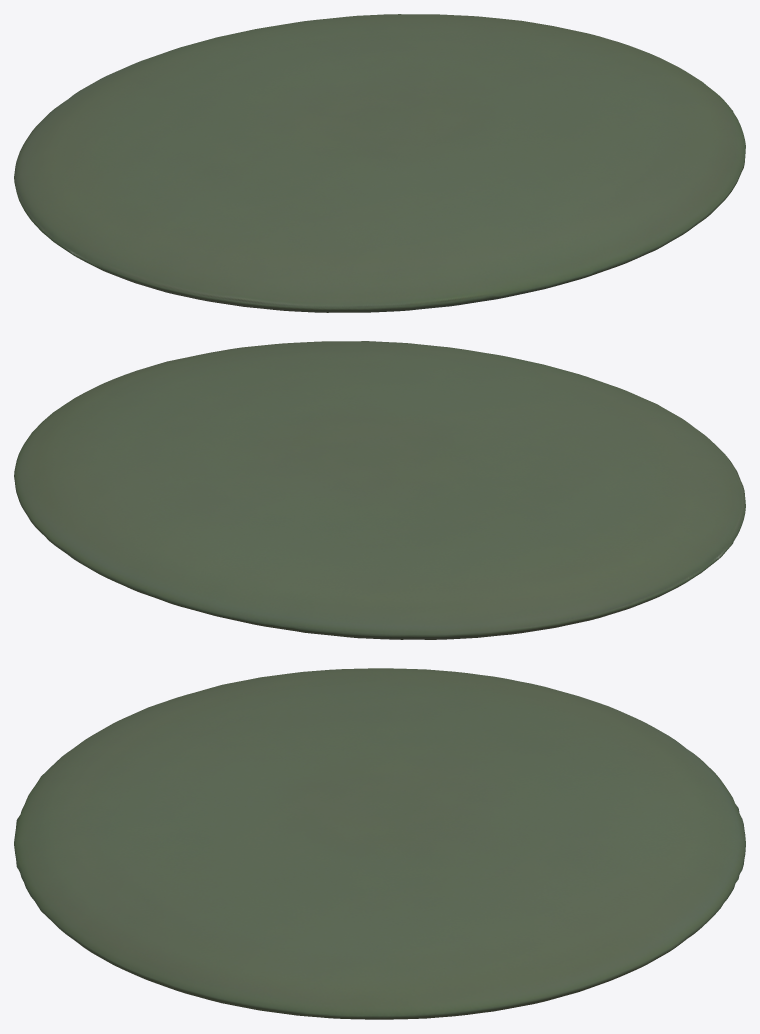
Rendered from carpet.glb.
3 views of the same model, one above another, from view 1: azimuth 30°, elevation 25°; view 2: azimuth 150°, elevation 25°; view 3: azimuth 270°, elevation 25° (orthographic). The views are drawn at different scales.
Parts seen in each view (by area): view 1: model; view 2: model; view 3: model.
Boxes of the visible parts, bbox=[...] form: model: bbox=[14, 14, 745, 312]; model: bbox=[14, 341, 745, 639]; model: bbox=[14, 668, 745, 1019].
Size of the model in its own units: 1.89 by 0.2215 by 1.69.
1 material, 1 textured.
